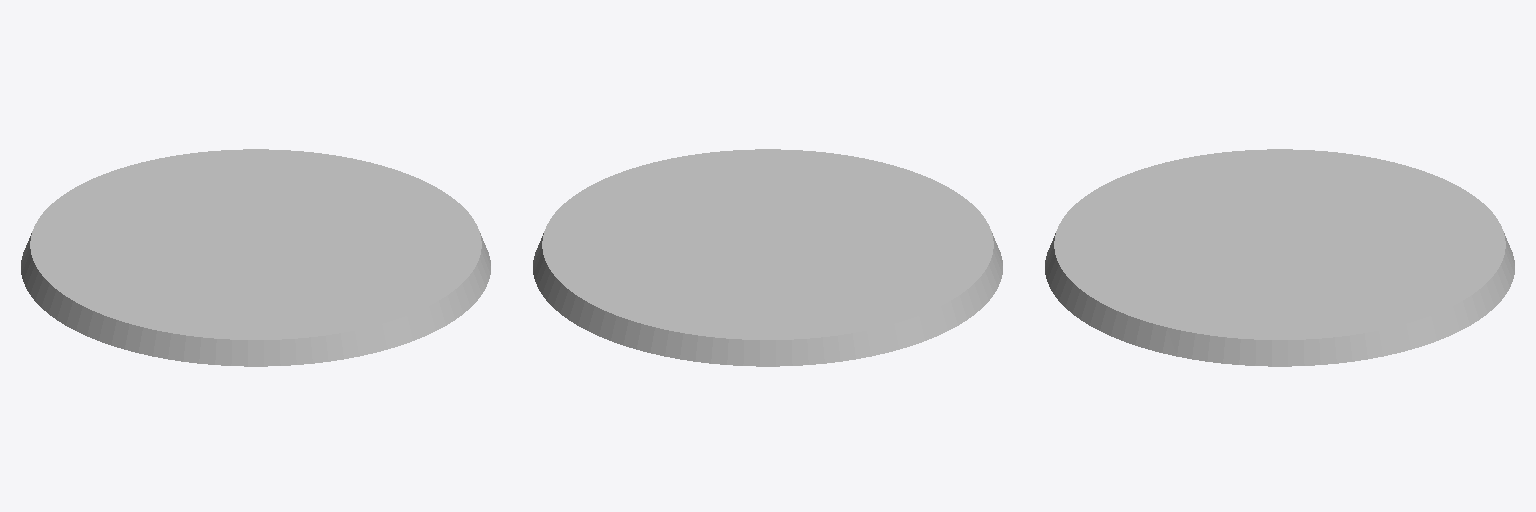
File: Disc_32mm.obj
The picture shows the model from 3 angles: view 1: azimuth 30°, elevation 25°; view 2: azimuth 150°, elevation 25°; view 3: azimuth 270°, elevation 25°; orthographic projection.
Parts seen in each view (by area): view 1: Cylinder_Cylinder.001; view 2: Cylinder_Cylinder.001; view 3: Cylinder_Cylinder.001.
Part boxes in pixels (left/top/right/bottom): Cylinder_Cylinder.001: left=21, top=149, right=490, bottom=366; Cylinder_Cylinder.001: left=533, top=149, right=1002, bottom=366; Cylinder_Cylinder.001: left=1045, top=149, right=1514, bottom=366.
Size of the model in its own units: 1.17 by 0.0617 by 1.17.